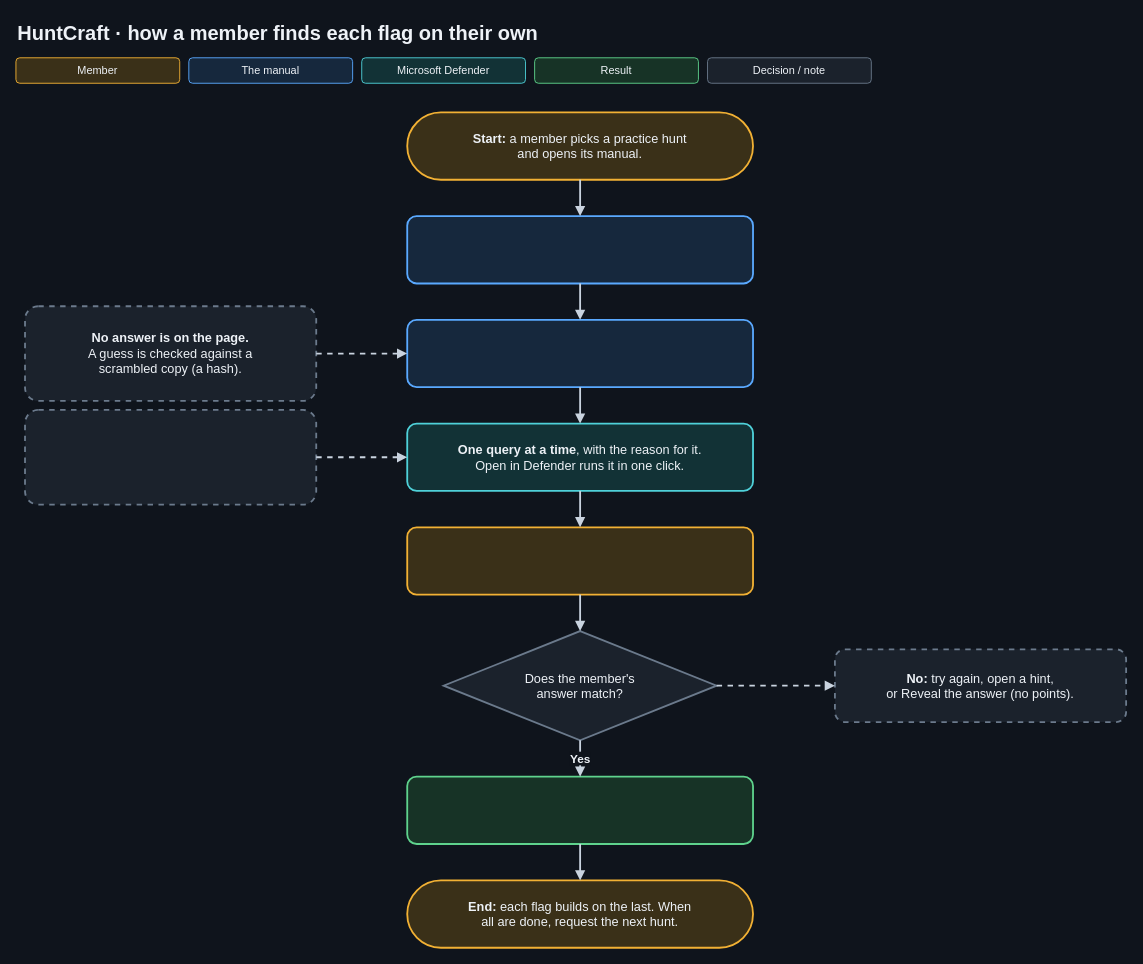
This 1143x964 diagram has some shape labels left out. The shapes that lost their labels are listed below. From the top down, each one's centre as x and y in pixels, then its label:
At (x=579, y=249): "Orientation: the logs to search, the two clocks, and setting Defender to UTC.".
At (x=579, y=353): "Each flag: the goal, where to look, and why there and not somewhere else.".
At (x=170, y=457): "The site never runs a query or calls an AI. The member does the hunting.".
At (x=579, y=560): "The member reads the result for the pattern described , never a given value.".
At (x=579, y=809): "Correct: points are added, and the answer and why it matters unlock.".
